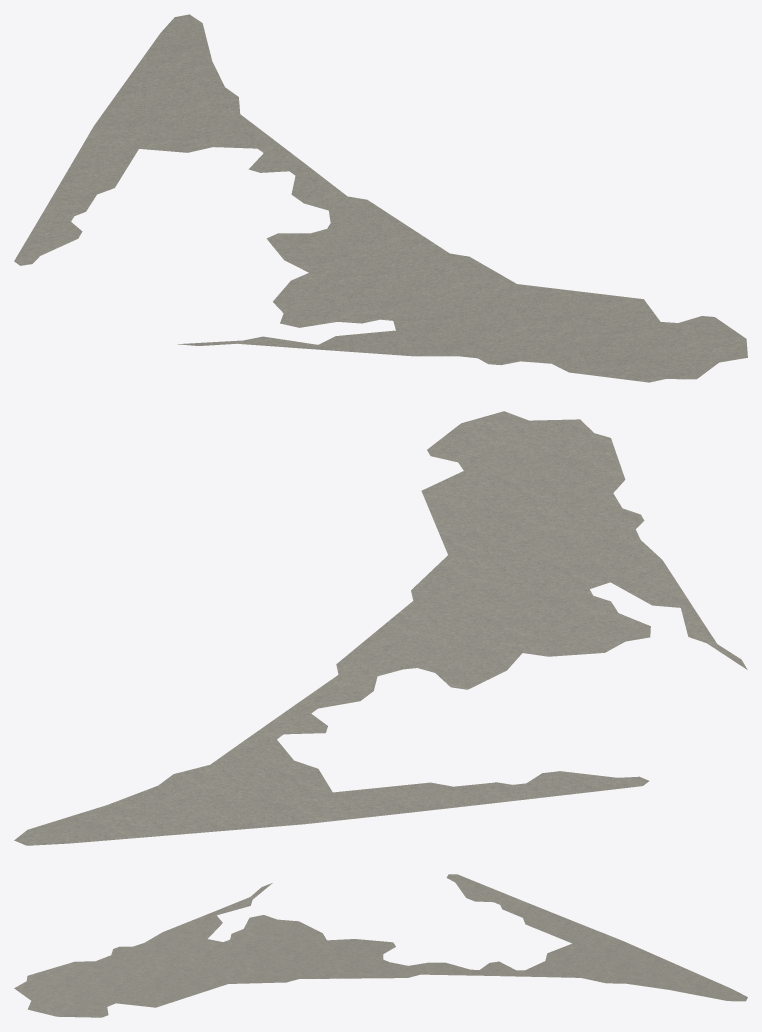
The model's file is path_06.glb.
3 renders of one model, top to bottom at view 1: azimuth 30°, elevation 25°; view 2: azimuth 150°, elevation 25°; view 3: azimuth 270°, elevation 25°, orthographic. The views are drawn at different scales.
Parts seen in each view (by area): view 1: path_06.surface; view 2: path_06.surface; view 3: path_06.surface.
Boxes of the visible parts, left/top/right/bottom form: path_06.surface: left=14, top=14, right=747, bottom=382; path_06.surface: left=14, top=411, right=747, bottom=845; path_06.surface: left=14, top=874, right=747, bottom=1017.
Bounding box in the file's own units: 8.2 × 0.3522 × 16.3.
Materials: 1 (1 with a texture image).
